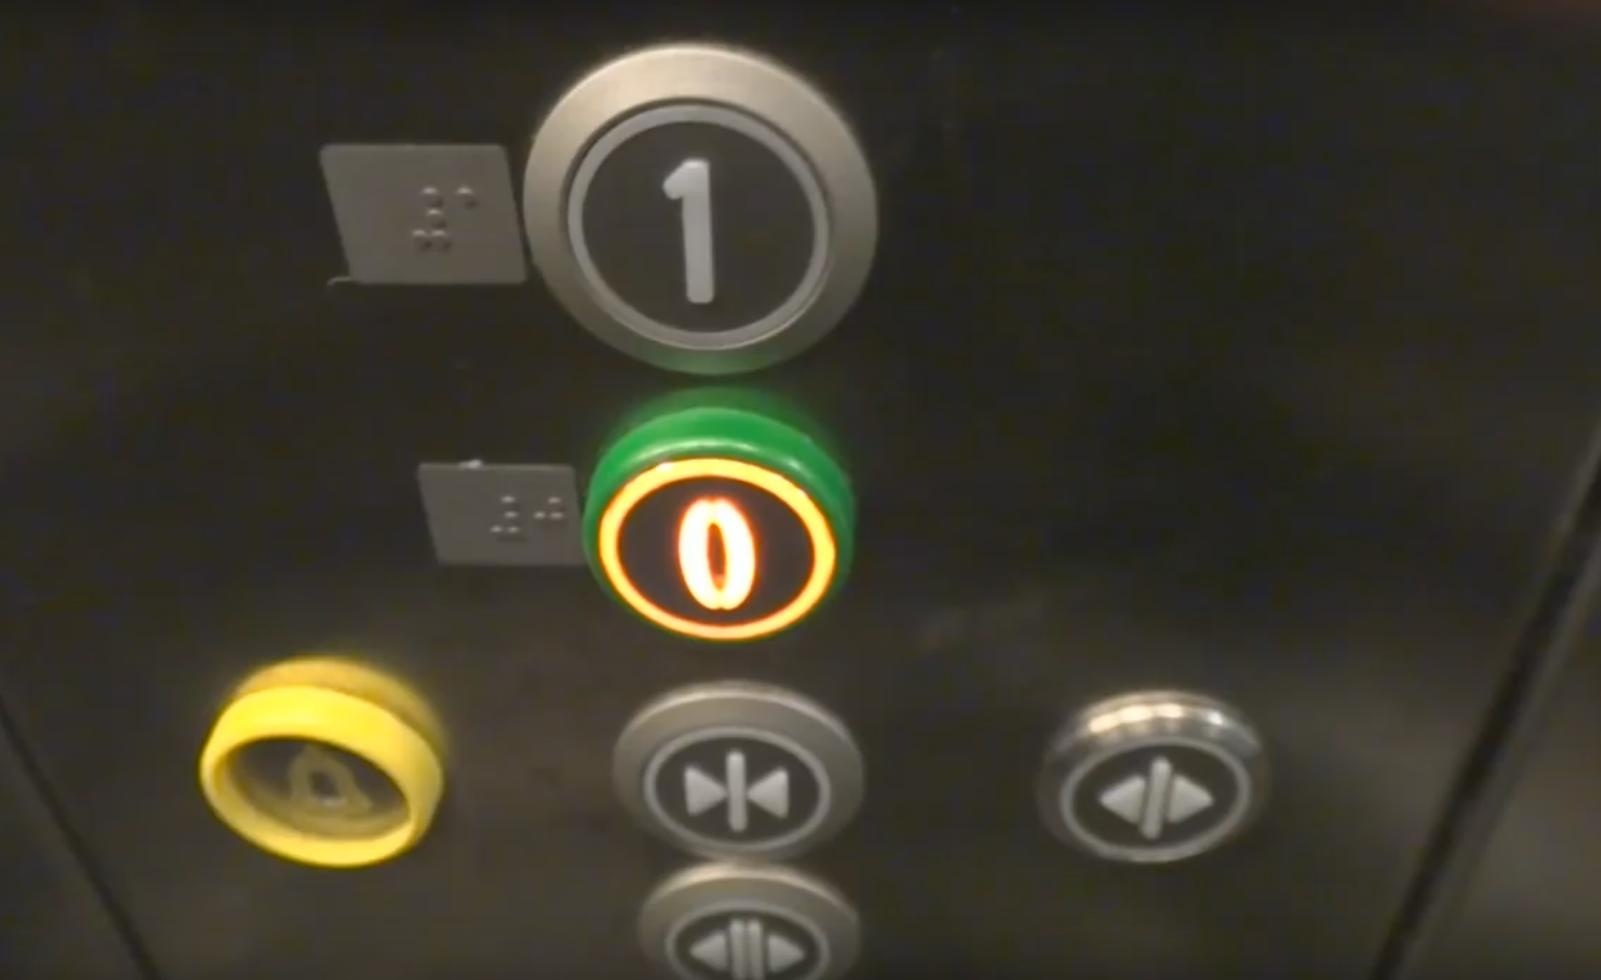0: (573, 404, 865, 648)
1: (520, 43, 882, 379)
alarm: (196, 685, 451, 875)
close: (610, 678, 867, 863)
open: (1028, 690, 1271, 865), (634, 859, 863, 980)
